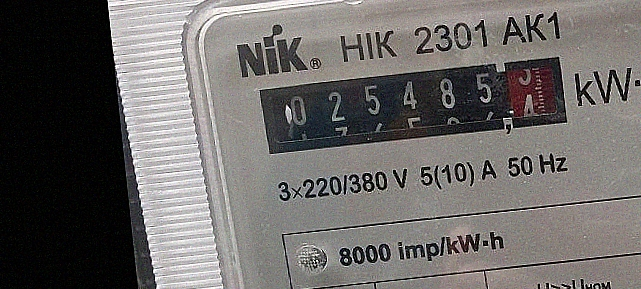0: (285, 90, 310, 127)
2: (324, 86, 347, 123)
4: (396, 76, 421, 112), (517, 89, 539, 119)
5: (471, 68, 495, 107), (359, 80, 383, 117)
8: (435, 72, 459, 112)
screen: (249, 47, 577, 166)
